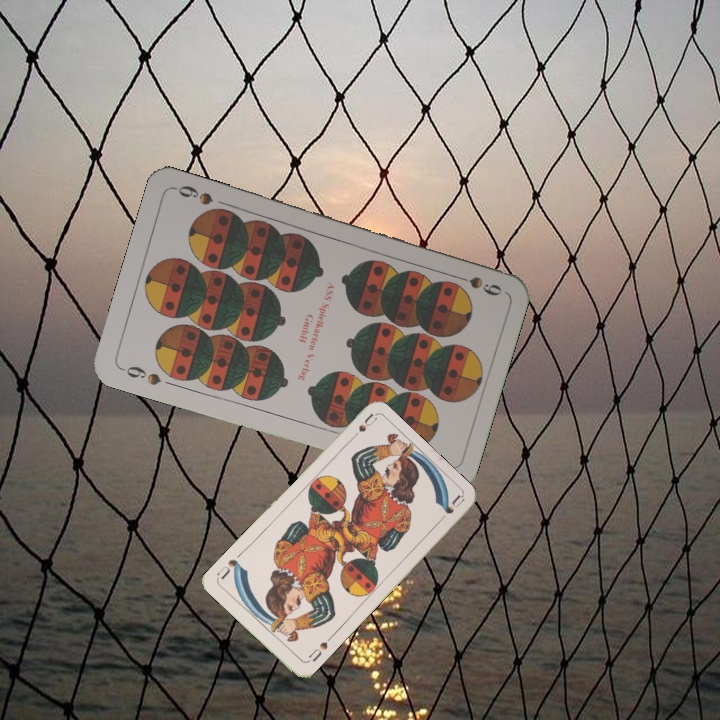S9: (447, 270, 505, 299), (116, 362, 164, 388)
SU: (345, 410, 379, 445), (303, 632, 334, 665)
